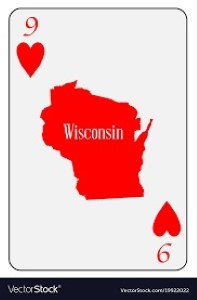NineOfHearts: (4, 3, 192, 273)
